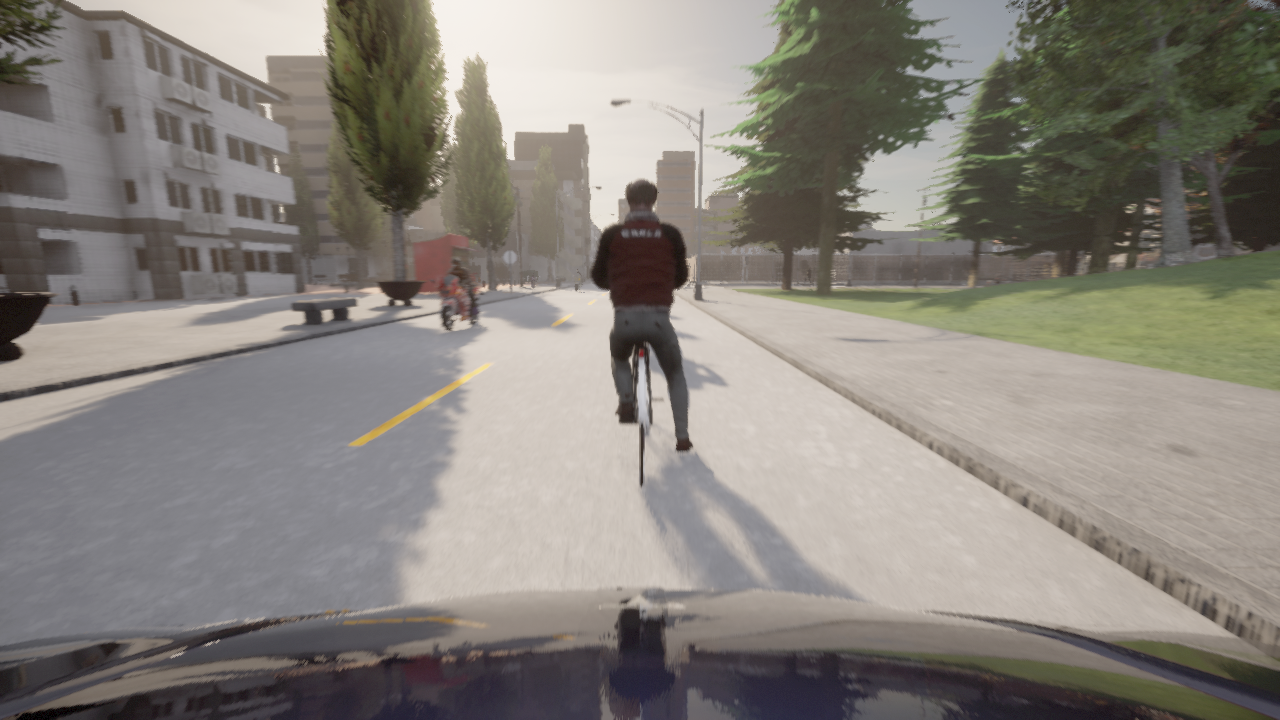cyclist: (0, 588, 1279, 719), (618, 343, 664, 486), (428, 275, 484, 331), (987, 275, 1013, 285), (571, 274, 582, 291), (737, 272, 759, 279), (717, 268, 730, 278), (767, 272, 781, 279), (799, 269, 804, 279), (747, 273, 755, 279)
pedestrian: (801, 265, 812, 286), (531, 274, 535, 286)
